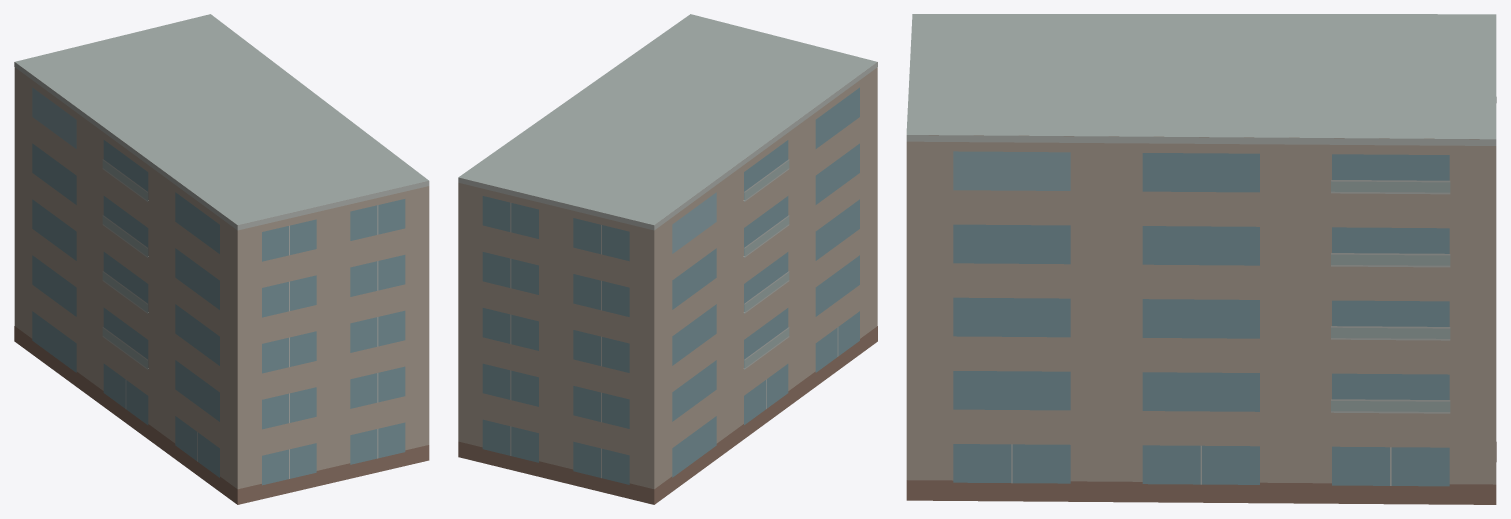
Rendered from survey-upis-32631285.glb.
3 renders of one model, left to right at view 1: azimuth 30°, elevation 25°; view 2: azimuth 150°, elevation 25°; view 3: azimuth 270°, elevation 25°, orthographic. The views are drawn at different scales.
Parts seen in each view (by area): view 1: survey-upis-32631285.tmp; view 2: survey-upis-32631285.tmp; view 3: survey-upis-32631285.tmp.
Part boxes in pixels (x1,y1,x2,y2): survey-upis-32631285.tmp: (14, 14, 429, 504); survey-upis-32631285.tmp: (458, 14, 877, 504); survey-upis-32631285.tmp: (906, 14, 1496, 504).
Size of the model in its own units: 9.67 by 13.1 by 19.17.
